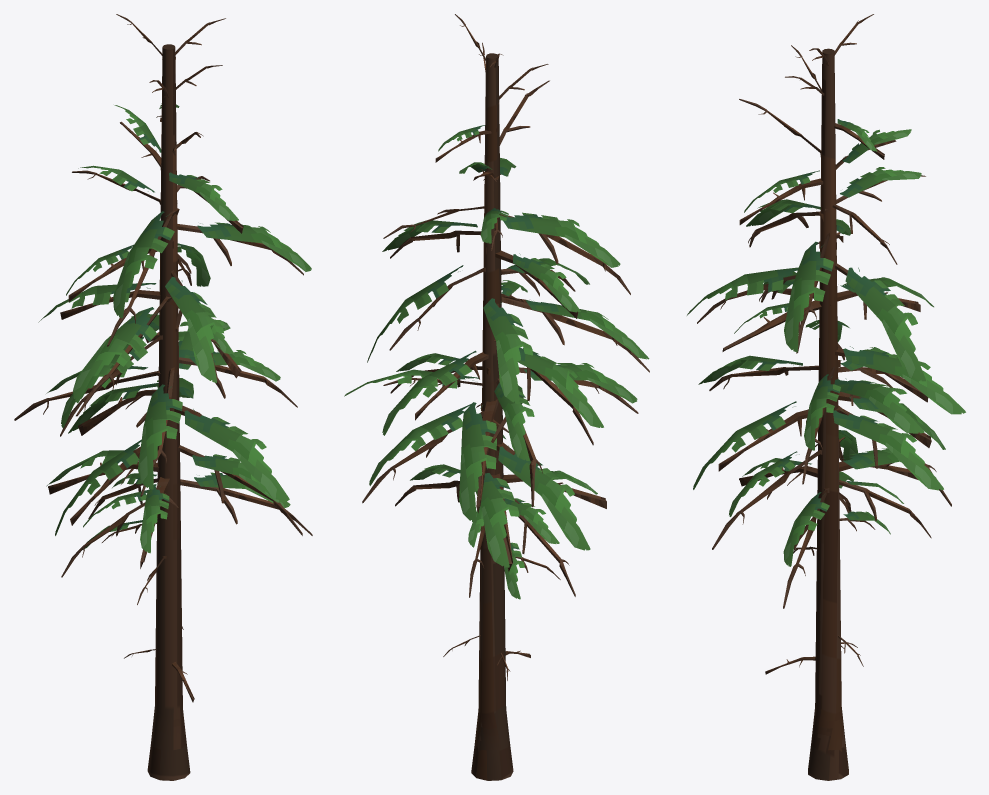
File: tree_04.fbx
3 views of the same model, side by side, from view 1: azimuth 30°, elevation 25°; view 2: azimuth 150°, elevation 25°; view 3: azimuth 270°, elevation 25° (orthographic).
Parts seen in each view (by area): view 1: Object011; view 2: Object011; view 3: Object011.
Part boxes in pixels (bbox=[...]): Object011: bbox=[14, 14, 312, 780]; Object011: bbox=[344, 14, 649, 780]; Object011: bbox=[687, 14, 965, 780].
Bounding box in the file's own units: 19.27 × 53.14 × 18.94.
